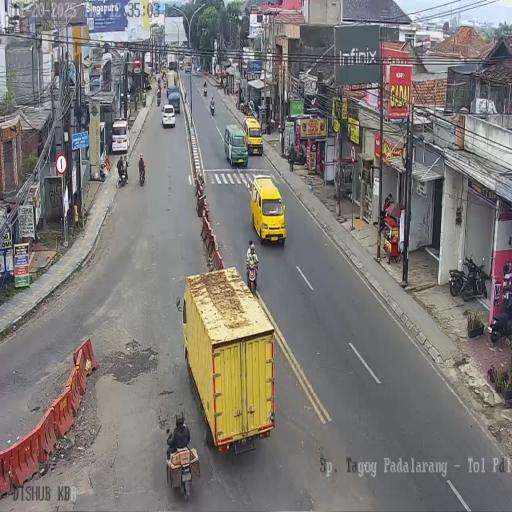car: (250, 175, 286, 243), (224, 124, 247, 167), (243, 116, 263, 156), (110, 118, 130, 154), (161, 104, 176, 128), (195, 66, 201, 73), (179, 62, 184, 70)
motorcycle: (488, 288, 512, 343), (461, 254, 488, 302), (448, 267, 466, 297), (247, 258, 258, 294), (292, 144, 306, 166), (240, 100, 253, 116), (139, 165, 146, 185), (210, 99, 215, 115), (142, 94, 147, 107), (157, 92, 161, 106), (223, 83, 227, 95), (203, 86, 207, 96), (166, 85, 169, 98), (158, 76, 160, 88), (164, 78, 166, 88)
truck: (182, 271, 276, 455), (168, 53, 178, 76), (184, 56, 191, 72)
